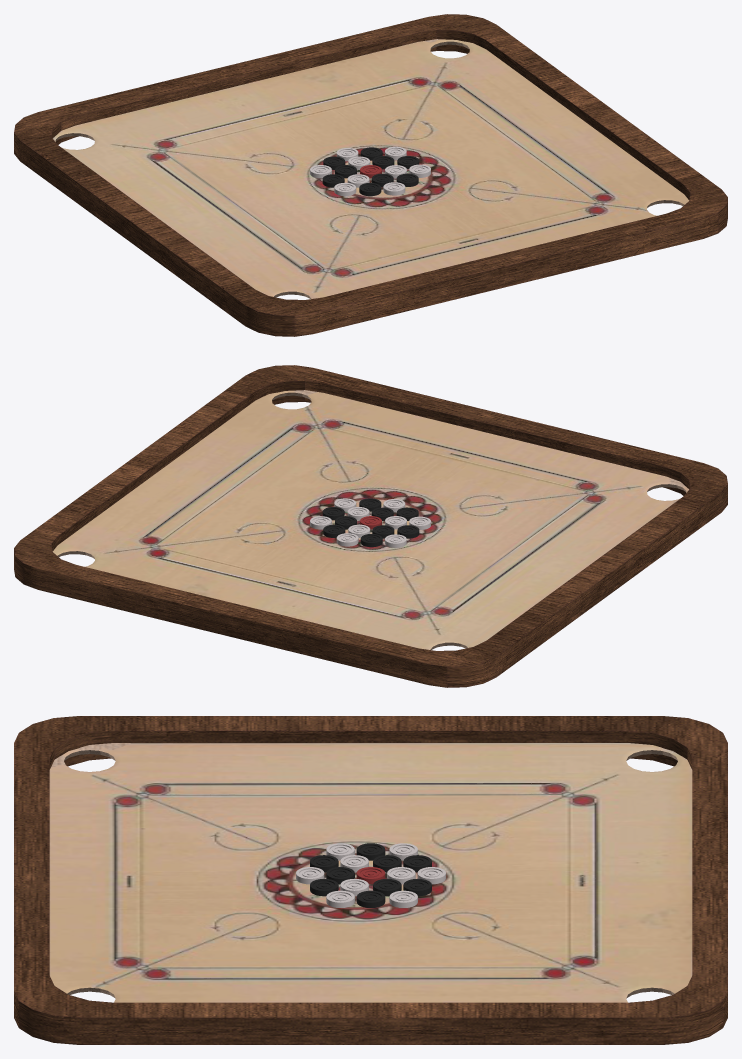
File: karom.glb
The picture shows the model from 3 angles, top to bottom: view 1: azimuth 30°, elevation 25°; view 2: azimuth 150°, elevation 25°; view 3: azimuth 270°, elevation 25°; orthographic projection. The views are drawn at different scales.
Visible parts, largest first — view 1: table, frame; view 2: table, frame; view 3: table, frame.
Part boxes in pixels (left/top/right/bottom): table: left=53, top=39, right=689, bottom=298; frame: left=14, top=14, right=727, bottom=336; table: left=52, top=390, right=688, bottom=649; frame: left=14, top=365, right=727, bottom=687; table: left=49, top=743, right=692, bottom=1002; frame: left=14, top=716, right=727, bottom=1044.
Size of the model in its own units: 0.3054 by 0.0128 by 0.3054.
Materials: 1 (1 with a texture image).
